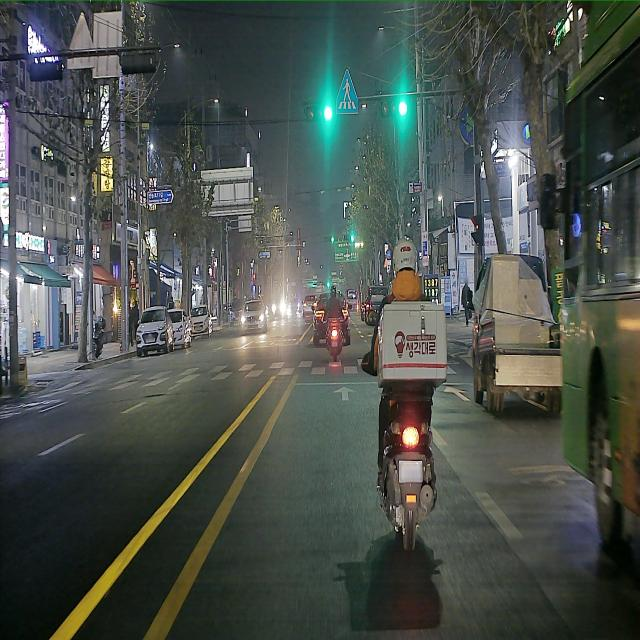Green Light: (323, 104, 333, 123), (398, 99, 407, 117)
